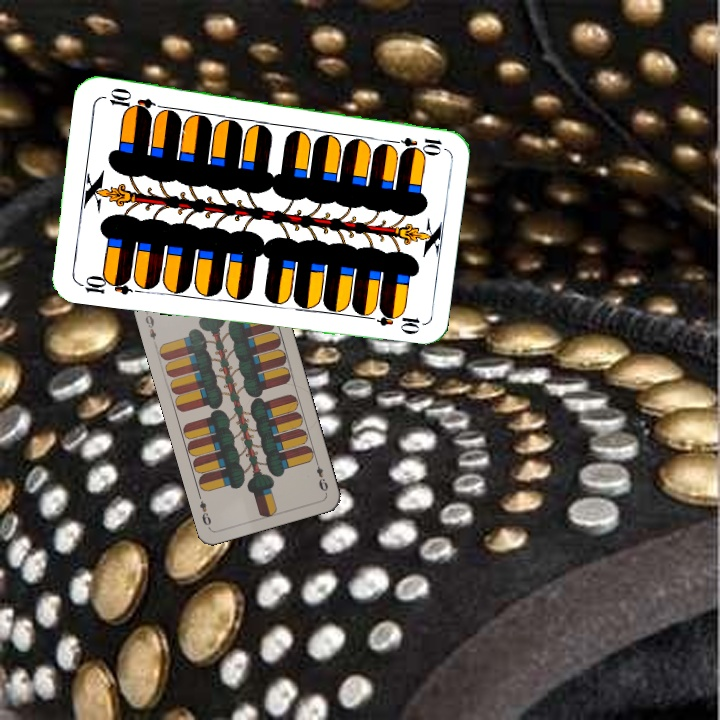E10: (74, 271, 134, 298), (385, 133, 445, 153)
E9: (312, 456, 331, 496), (141, 309, 159, 349)
